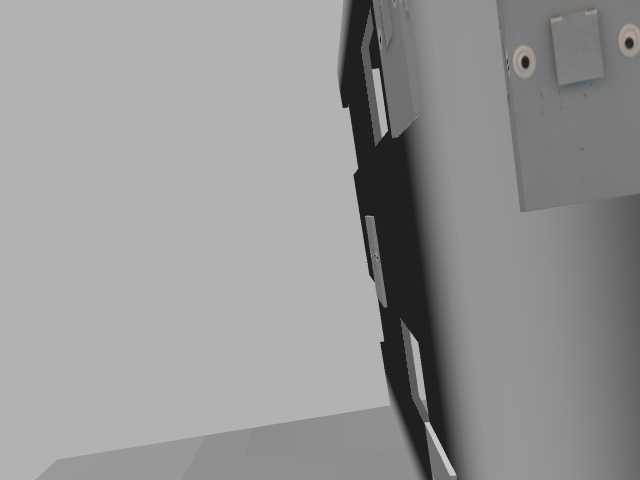facade: (512, 6, 639, 89)
